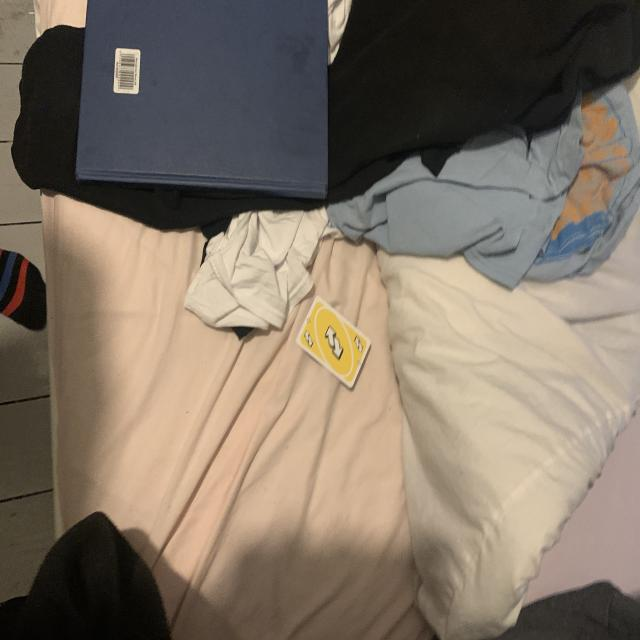lyellowrevers-20: (302, 328, 317, 352)
